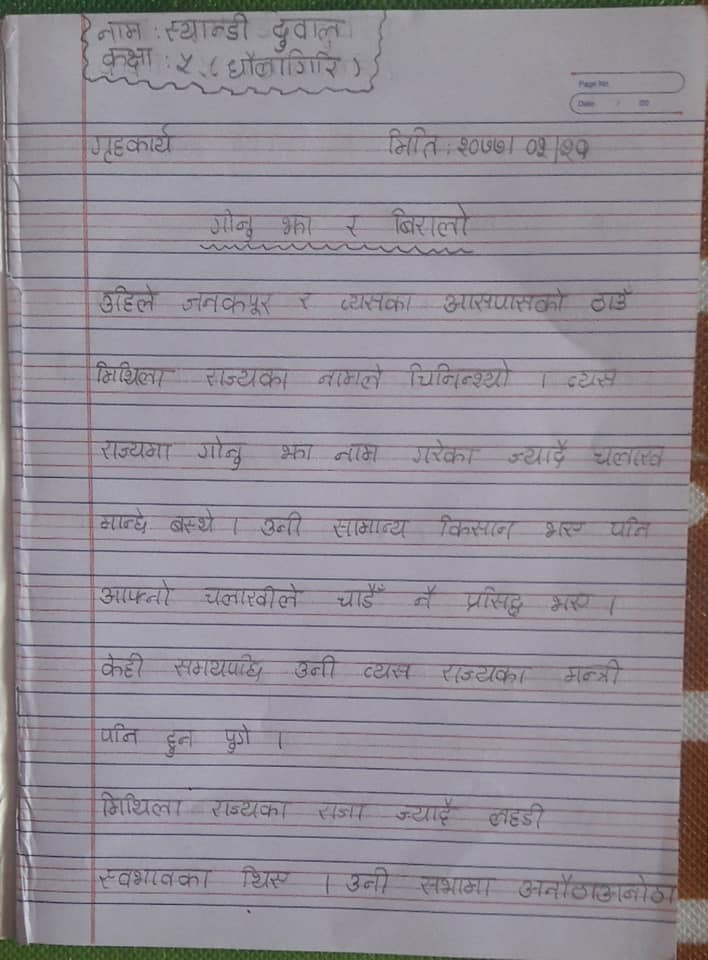text: (516, 871, 678, 909), (452, 132, 591, 163), (225, 49, 345, 80), (442, 287, 570, 316), (405, 358, 517, 391), (89, 124, 178, 164), (96, 863, 214, 893), (386, 201, 472, 238), (436, 511, 520, 548), (203, 579, 304, 609), (91, 356, 175, 392), (98, 788, 186, 821), (175, 649, 265, 681), (181, 289, 278, 318), (440, 658, 533, 688), (199, 363, 296, 391), (271, 14, 348, 49), (209, 792, 293, 824), (462, 583, 533, 619), (165, 14, 251, 42), (96, 578, 175, 608), (330, 513, 411, 542), (504, 438, 574, 470), (415, 874, 500, 900), (410, 436, 482, 466), (383, 125, 441, 162), (96, 437, 178, 463), (99, 280, 160, 314), (337, 289, 419, 314), (396, 795, 460, 827), (197, 433, 249, 472), (313, 363, 387, 390), (562, 656, 626, 687), (591, 444, 669, 469), (237, 860, 292, 895), (489, 799, 546, 831), (100, 646, 147, 684), (254, 508, 306, 541), (336, 582, 389, 613), (210, 206, 258, 240), (101, 44, 157, 73), (98, 506, 153, 535), (363, 655, 415, 685), (167, 508, 220, 537), (586, 284, 637, 314), (293, 652, 343, 682), (311, 799, 370, 824), (345, 864, 391, 895), (606, 513, 653, 542), (93, 19, 146, 44), (333, 437, 382, 464), (564, 367, 620, 390), (221, 719, 257, 752), (163, 724, 196, 759), (541, 518, 587, 543), (549, 591, 594, 616), (409, 583, 442, 616), (277, 211, 317, 237), (279, 440, 317, 465), (99, 722, 140, 745), (175, 48, 196, 79), (343, 209, 361, 237), (294, 290, 319, 310)
